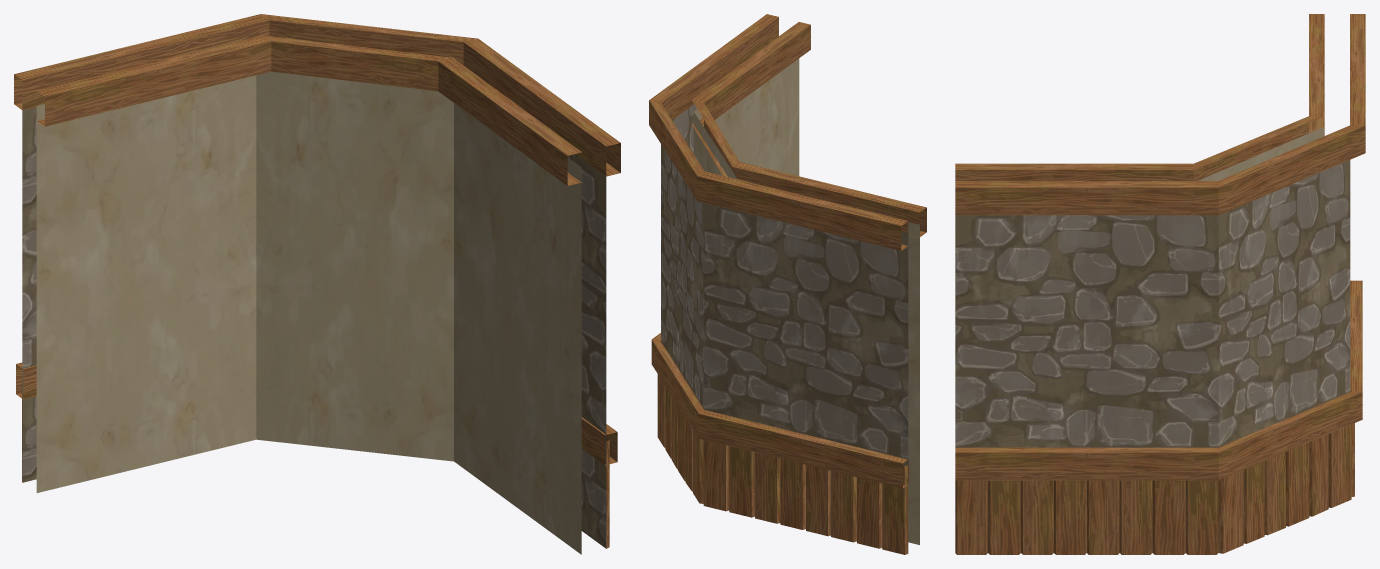
File: Overhang_WoodBrick_Corner_Front.glb
3 renders of one model, left to right at view 1: azimuth 30°, elevation 25°; view 2: azimuth 150°, elevation 25°; view 3: azimuth 270°, elevation 25°, orthographic. The views are drawn at different scales.
Parts seen in each view (by area): view 1: Overhang_WoodBrick_Corner_Front; view 2: Overhang_WoodBrick_Corner_Front; view 3: Overhang_WoodBrick_Corner_Front.
Part boxes in pixels (left/top/right/bottom): Overhang_WoodBrick_Corner_Front: left=14, top=14, right=620, bottom=554; Overhang_WoodBrick_Corner_Front: left=649, top=14, right=926, bottom=554; Overhang_WoodBrick_Corner_Front: left=955, top=14, right=1365, bottom=554.
Bounding box in the file's own units: 3.12 × 3.12 × 3.12.
4 materials, 4 textured.
